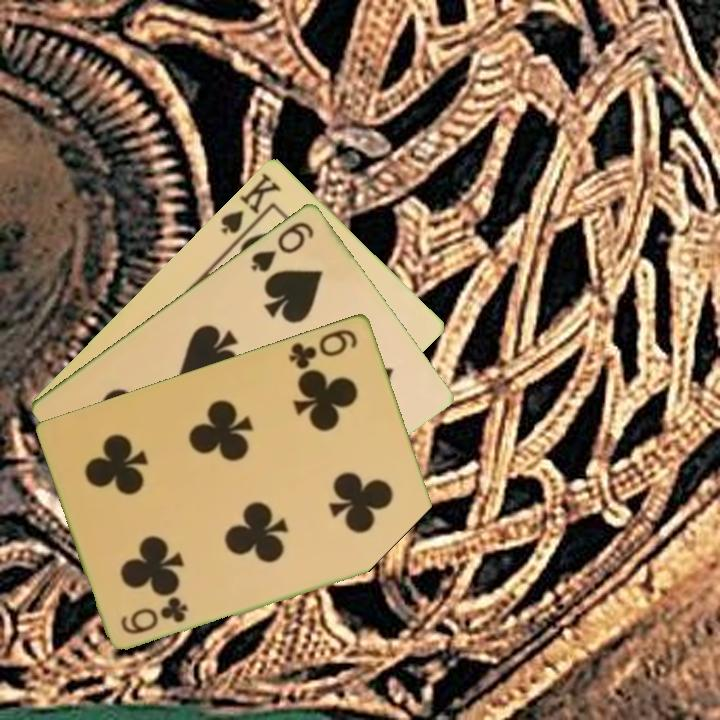6c: (285, 325, 361, 372), (117, 595, 191, 637)
6s: (247, 217, 317, 275)
Ks: (217, 169, 284, 237)
